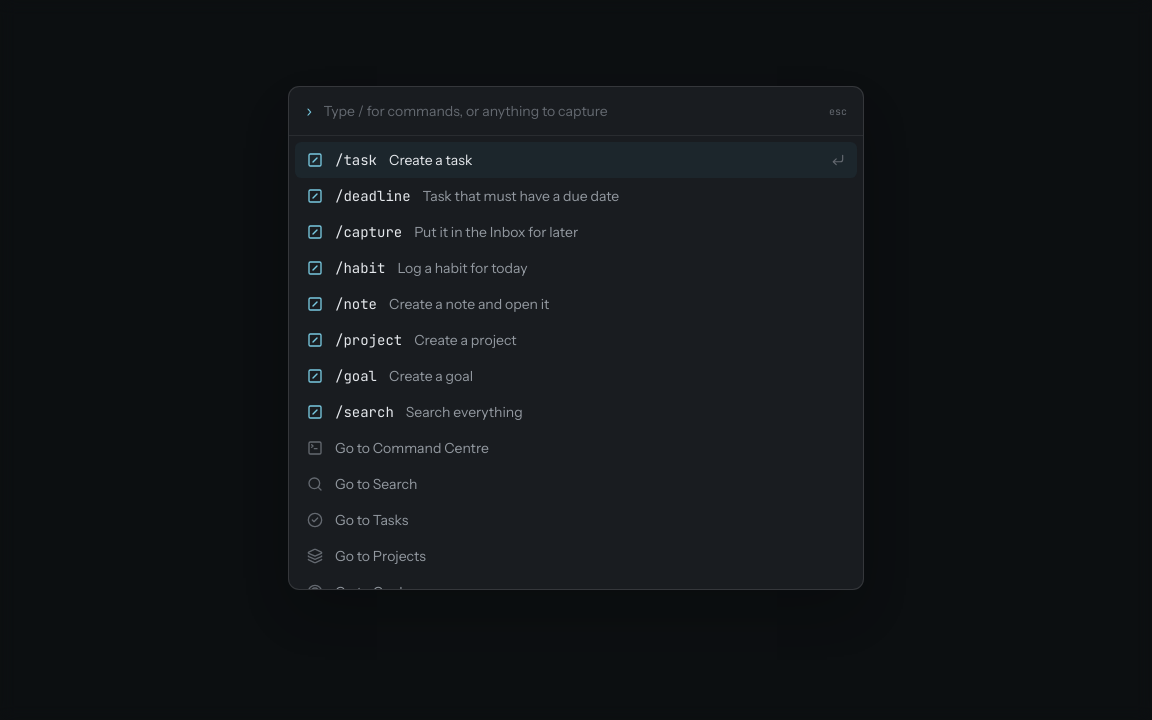
CommandPalette › captures plain text to the Inbox on Enter
In the dropdown labelled "command": (571,111) [323,87,819,135], type "call the bank"
Then press Enter
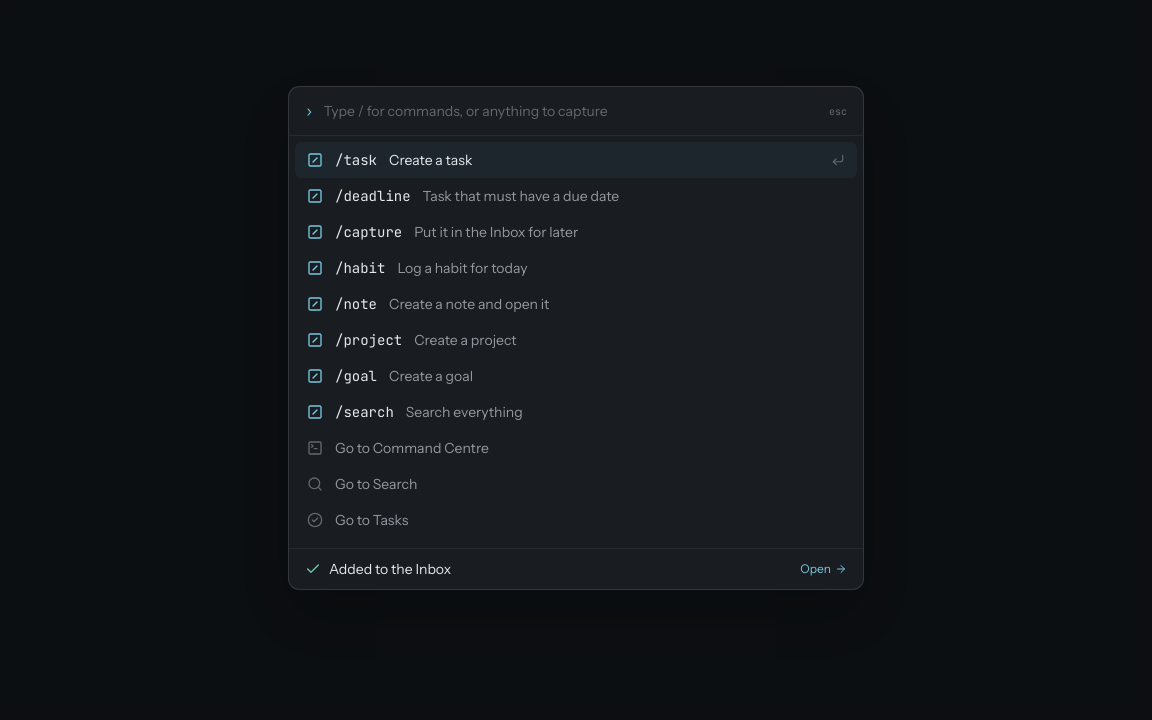
Expected: the text "Added to the Inbox" is shown, [329,559,451,579]
